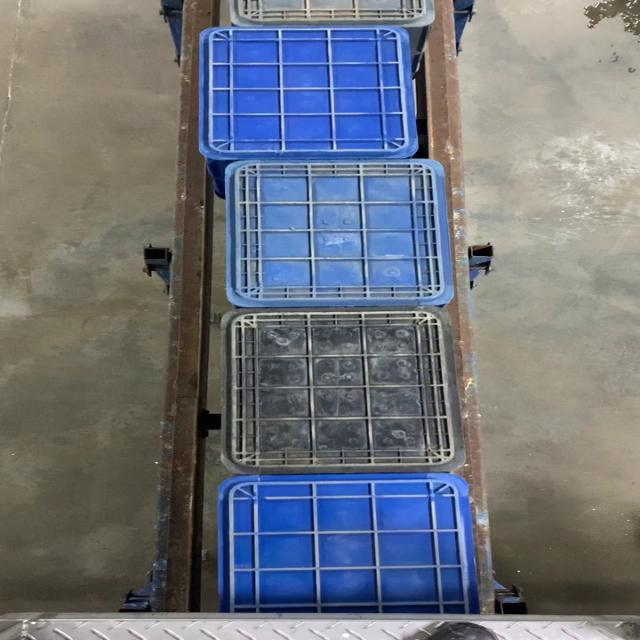Box: (216, 309, 463, 476), (222, 159, 454, 308), (199, 26, 418, 158)
